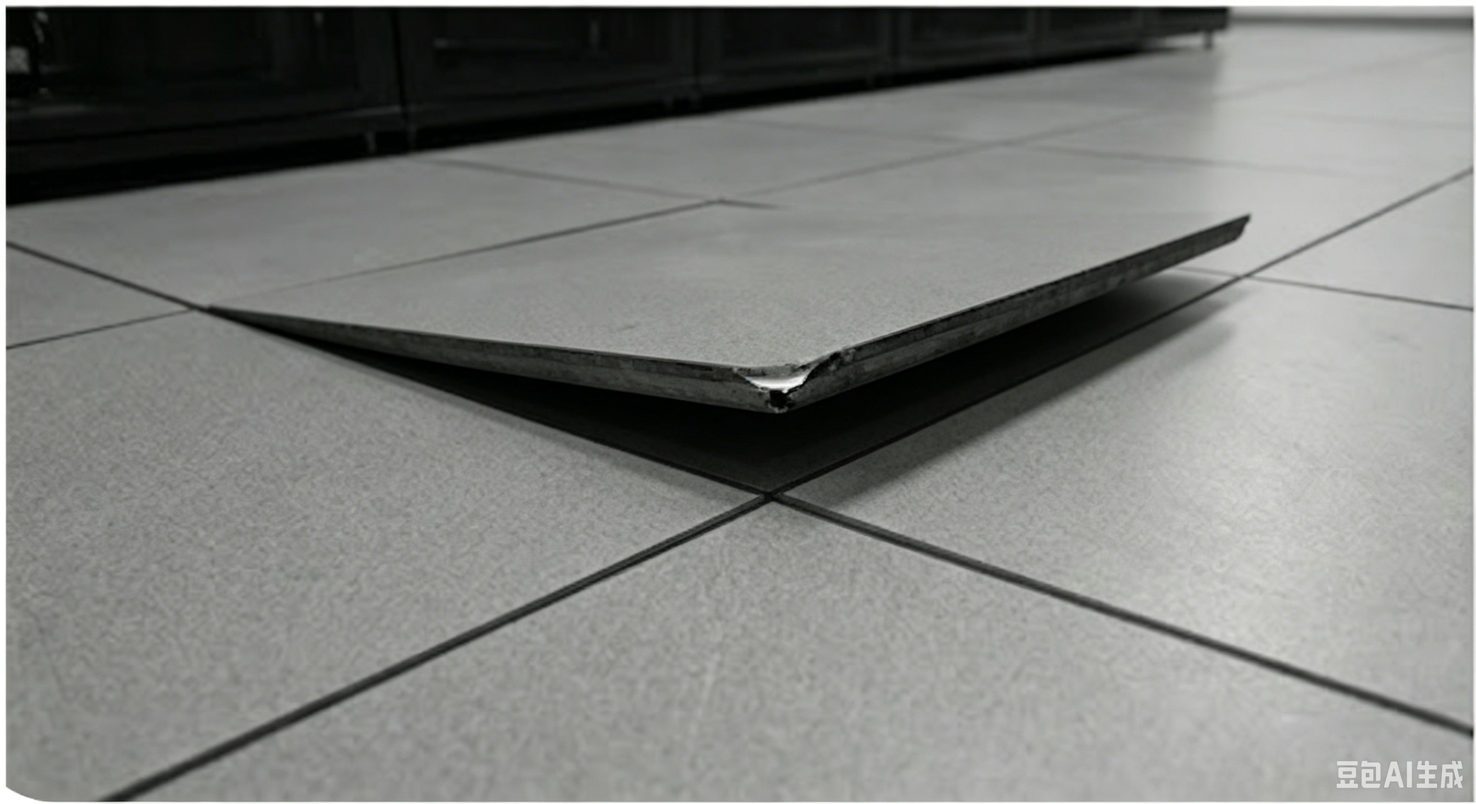floor_defect: (203, 277, 784, 489), (790, 291, 1048, 486), (1035, 195, 1258, 393)
